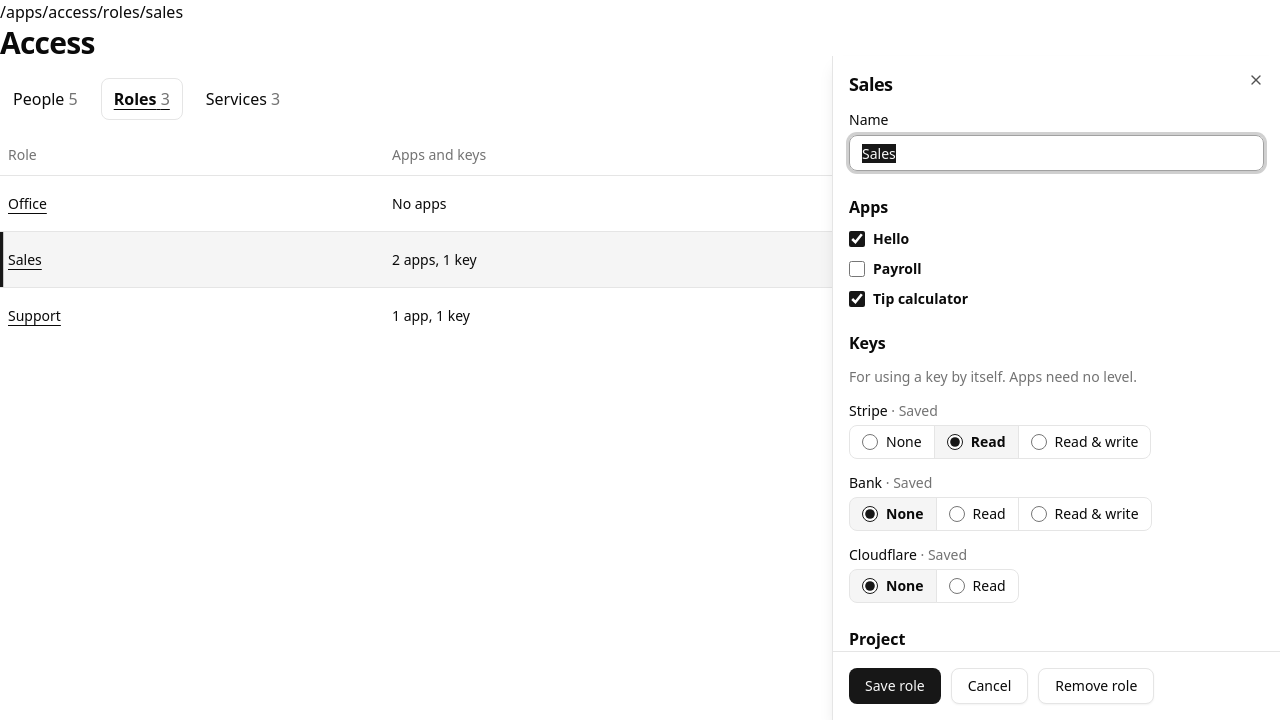
Test: asks in a popup before removing a role, says its people keep their access, and keeps the panel as it was on Cancel
Replace the text in the field labelled "Name" with "Field sales" at (1056, 153), box left=849, top=135, right=1264, bottom=171
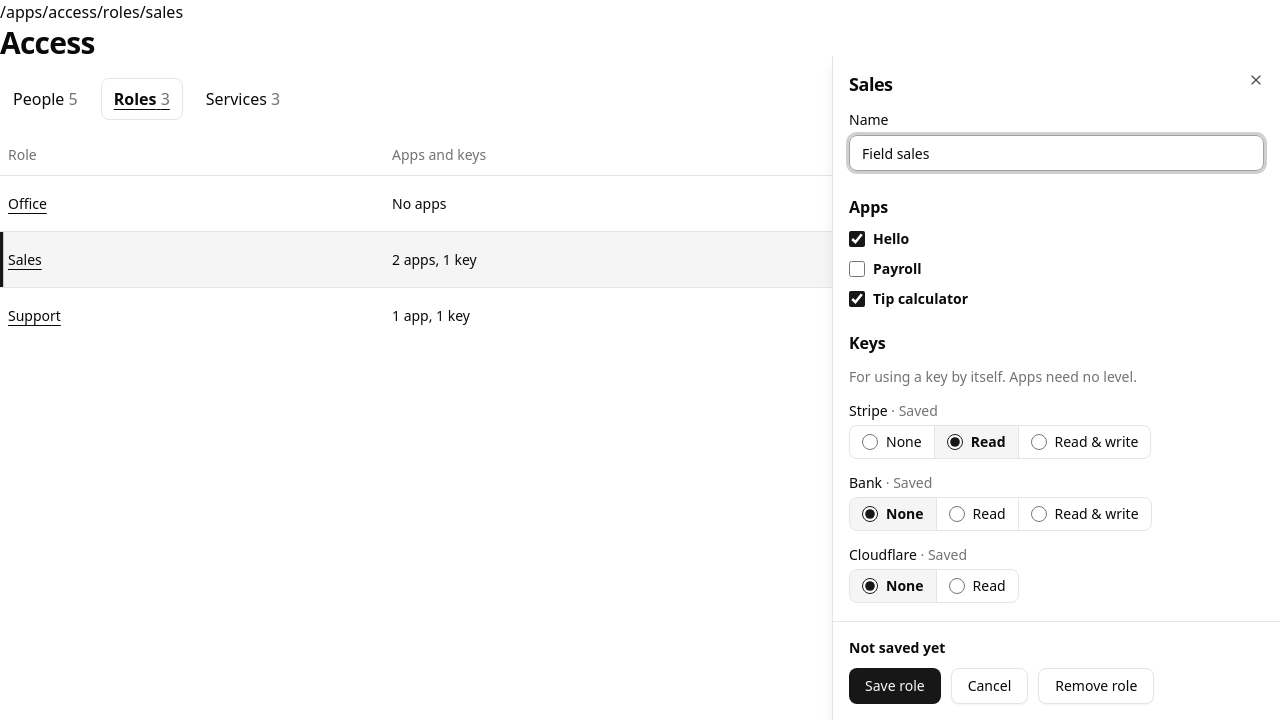
Click the button "Remove role" at (1096, 686), box left=1038, top=668, right=1154, bottom=704
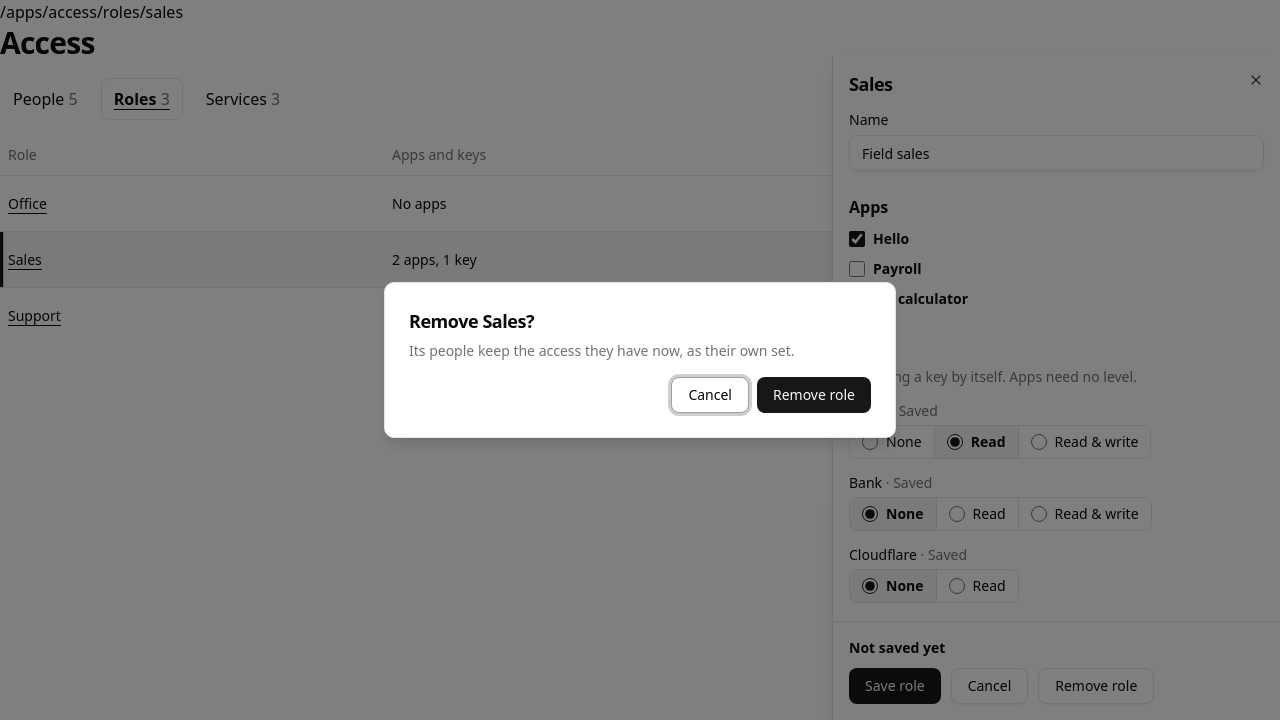
Now the text "Its people keep the access they have now, as their own set." is shown, box left=409, top=341, right=794, bottom=361
Click the button "Cancel" at (710, 395), box left=671, top=377, right=749, bottom=413
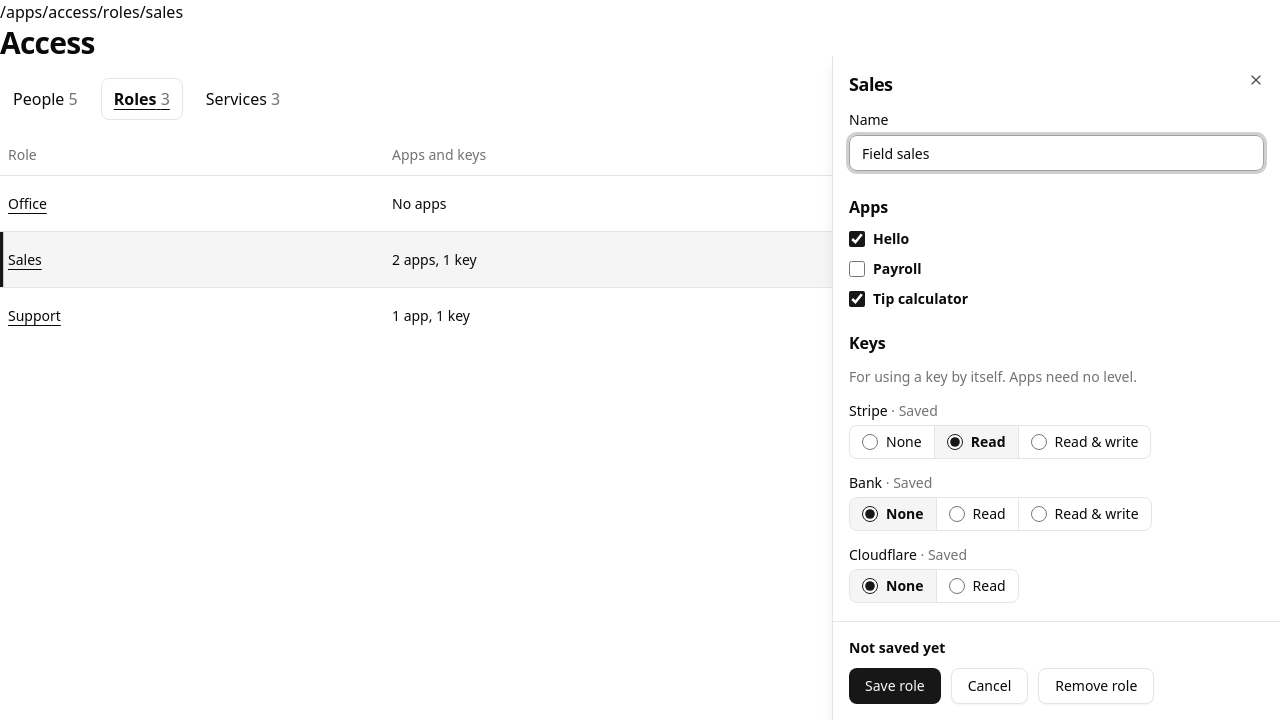
Click the button "Remove role" at (1096, 686), box left=1038, top=668, right=1154, bottom=704
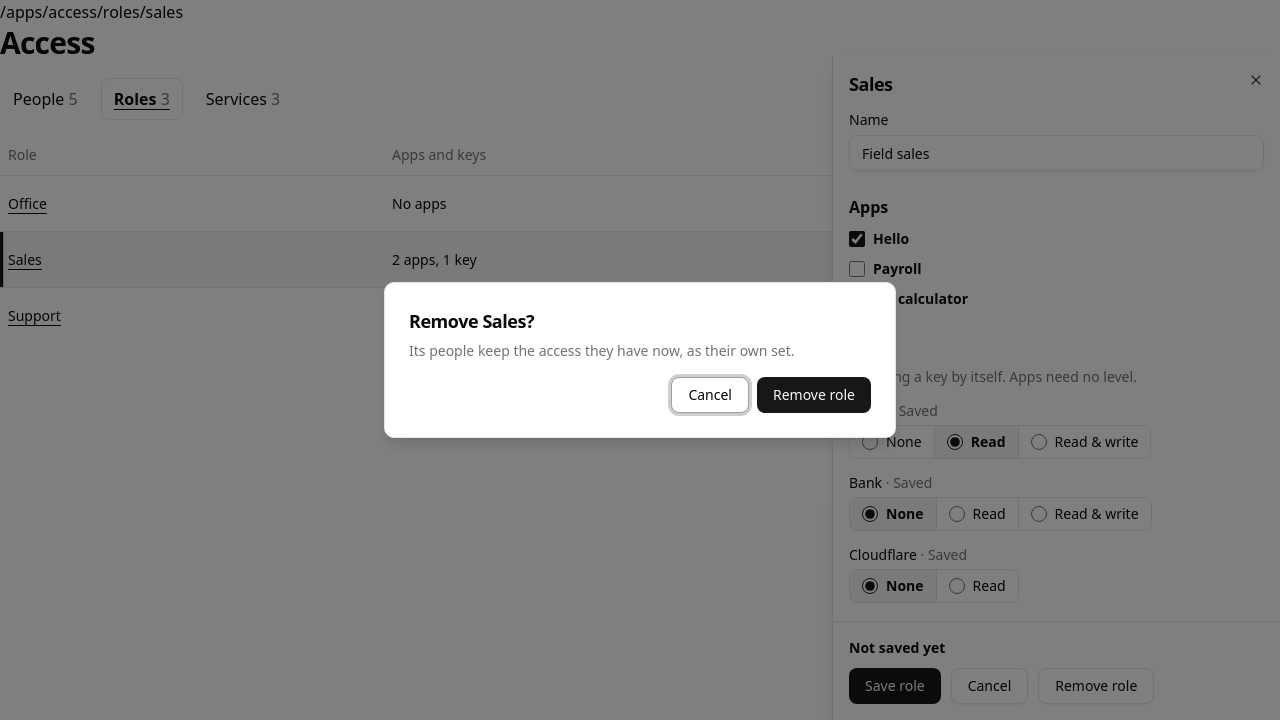
Click the button "Remove role" at (814, 395), box left=757, top=377, right=871, bottom=413
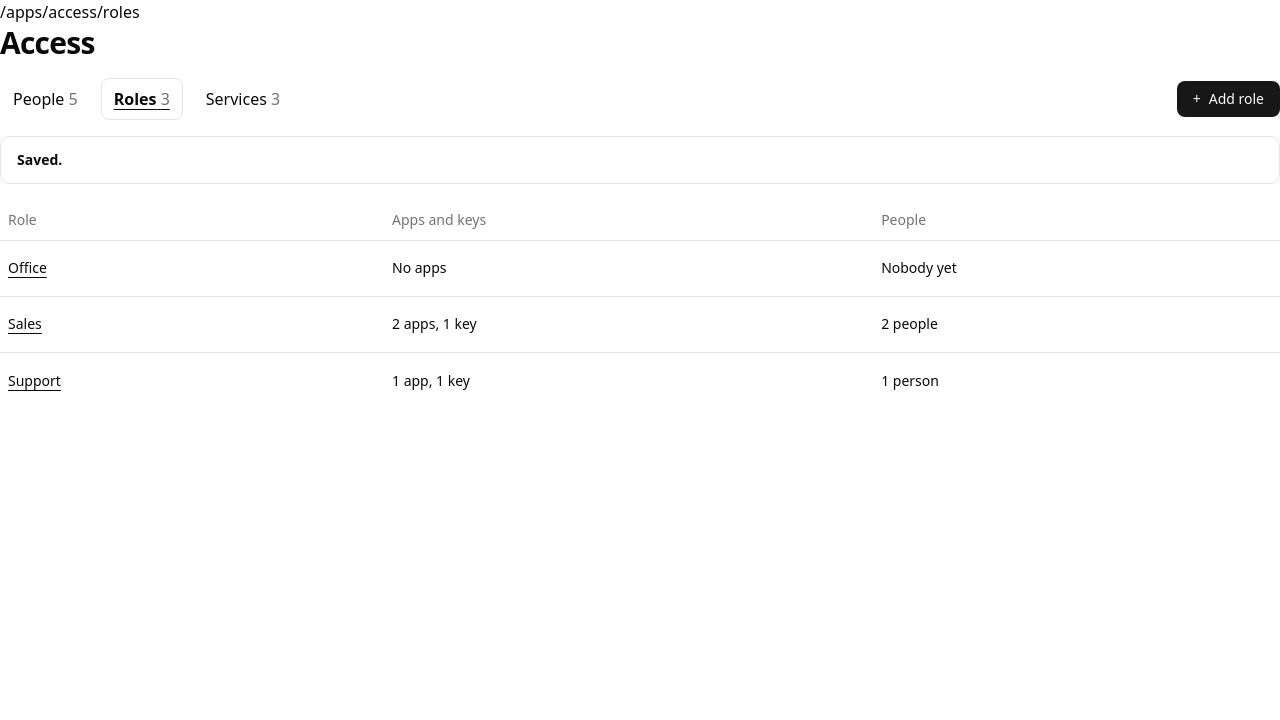
Now the text "Saved." is shown, box left=17, top=150, right=62, bottom=168
Now the text with test id "where" reads "/apps/access/roles", box left=0, top=1, right=140, bottom=23
Now the dialog is gone
